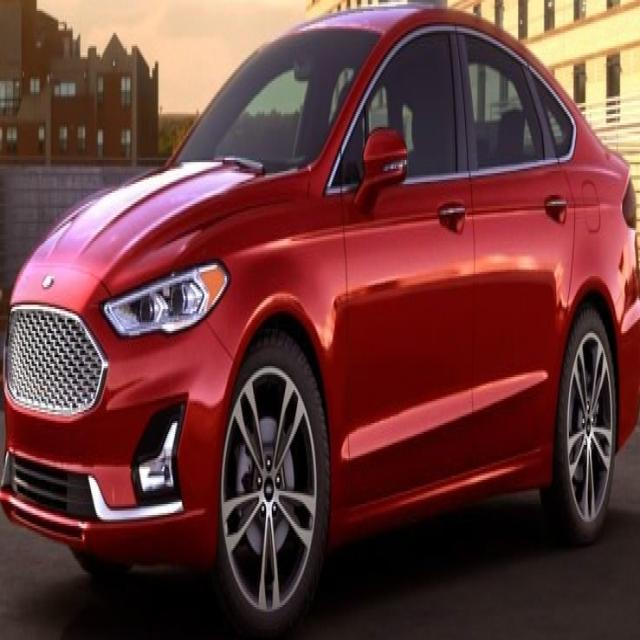red: (3, 13, 639, 558)
